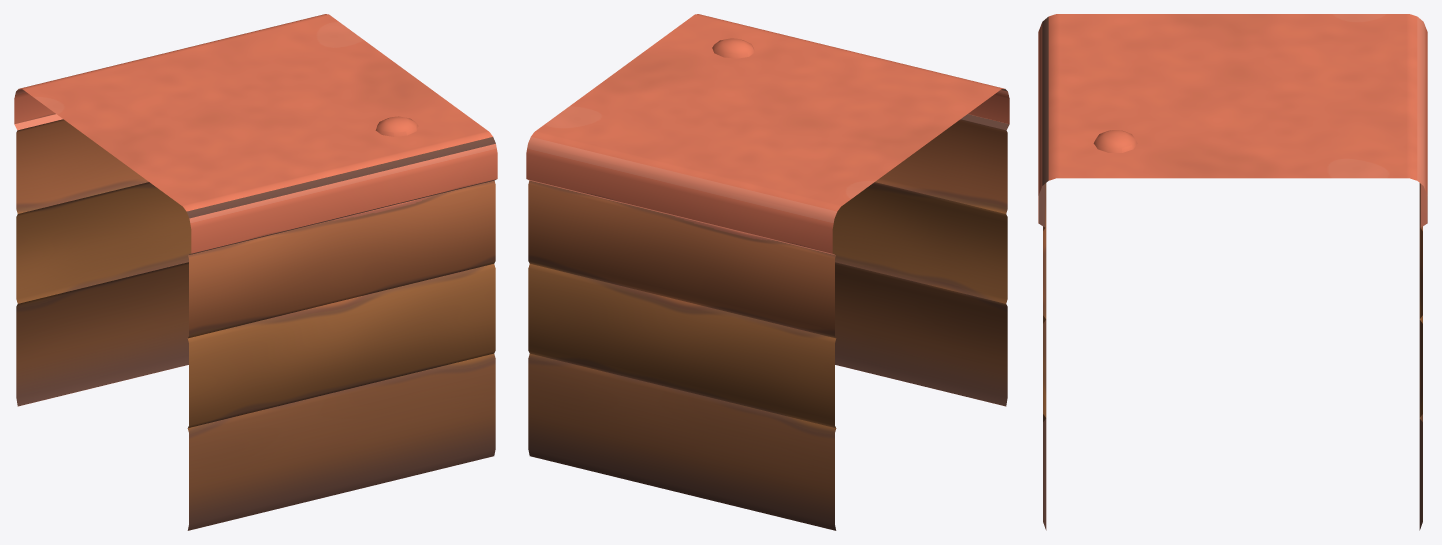
The model's file is wall_straight.glb.
3 renders of one model, left to right at view 1: azimuth 30°, elevation 25°; view 2: azimuth 150°, elevation 25°; view 3: azimuth 270°, elevation 25°, orthographic. The views are drawn at different scales.
Parts seen in each view (by area): view 1: wall_straight; view 2: wall_straight; view 3: wall_straight.
Boxes of the visible parts, x1=… form: wall_straight: x1=14, y1=14, x2=497, y2=530; wall_straight: x1=526, y1=14, x2=1009, y2=530; wall_straight: x1=1038, y1=14, x2=1427, y2=530.
Bounding box in the file's own units: 1 × 1.03 × 1.
Materials: 2 (2 with a texture image).
